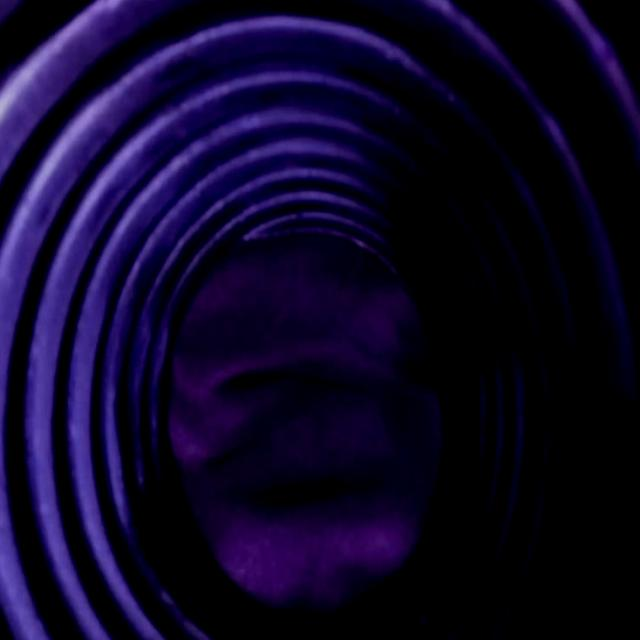block: (166, 242, 442, 614)
